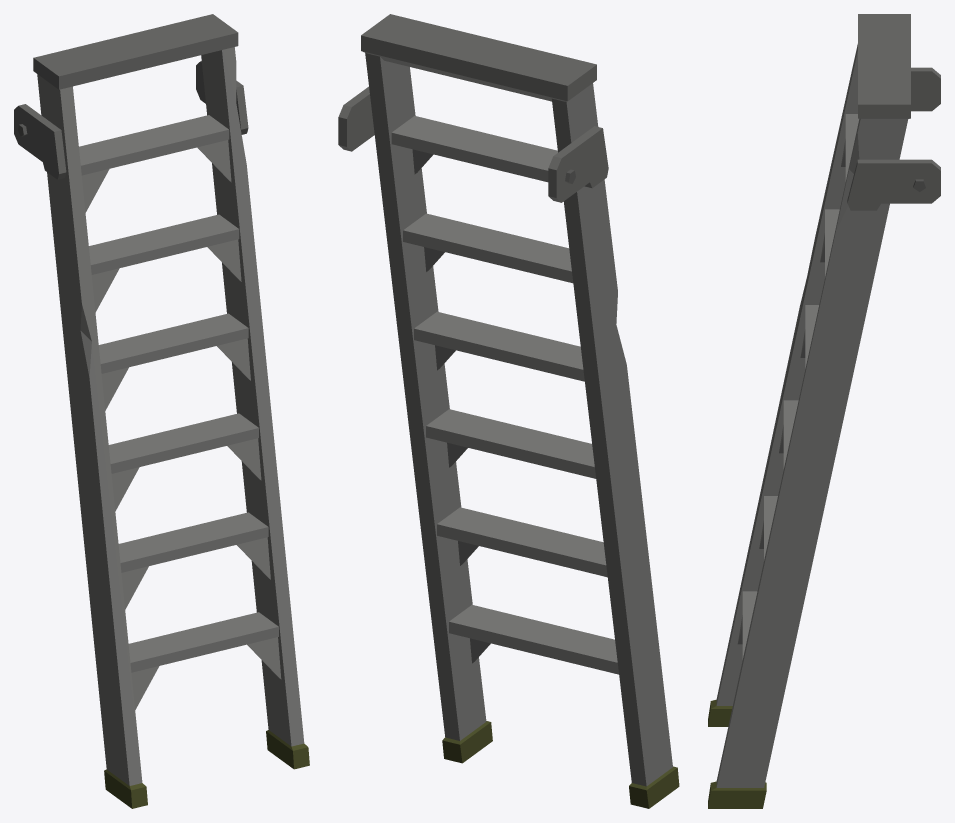
Rendered from SM_Prop_Ladder_Folding_01.glb.
3 renders of one model, left to right at view 1: azimuth 30°, elevation 25°; view 2: azimuth 150°, elevation 25°; view 3: azimuth 270°, elevation 25°, orthographic. The views are drawn at different scales.
Visible parts, largest first — view 1: SM_Prop_Ladder_Folding_01; view 2: SM_Prop_Ladder_Folding_01; view 3: SM_Prop_Ladder_Folding_01.
Part boxes in pixels (x1=…): SM_Prop_Ladder_Folding_01: x1=14, y1=14, x2=309, y2=808; SM_Prop_Ladder_Folding_01: x1=338, y1=14, x2=679, y2=808; SM_Prop_Ladder_Folding_01: x1=708, y1=14, x2=940, y2=808.
Bounding box in the file's own units: 0.7374 × 2.43 × 0.7291.
1 material, 1 textured.
